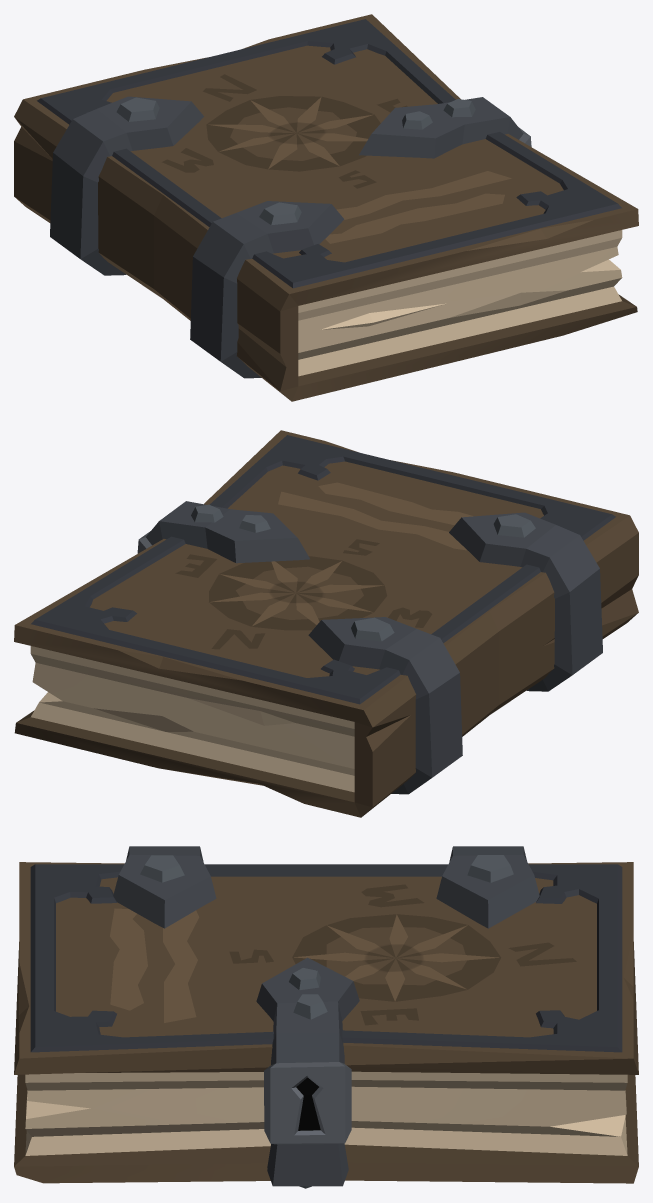
The model's file is SM_Prop_Book_05.fbx.
3 views of the same model, one above another, from view 1: azimuth 30°, elevation 25°; view 2: azimuth 150°, elevation 25°; view 3: azimuth 270°, elevation 25° (orthographic). The views are drawn at different scales.
Parts seen in each view (by area): view 1: SM_Prop_Book_05; view 2: SM_Prop_Book_05; view 3: SM_Prop_Book_05.
Part boxes in pixels (left/top/right/bottom): SM_Prop_Book_05: left=14, top=14, right=638, bottom=401; SM_Prop_Book_05: left=14, top=430, right=638, bottom=817; SM_Prop_Book_05: left=14, top=846, right=638, bottom=1188.
Size of the model in its own units: 75.84 by 30.69 by 94.52.
